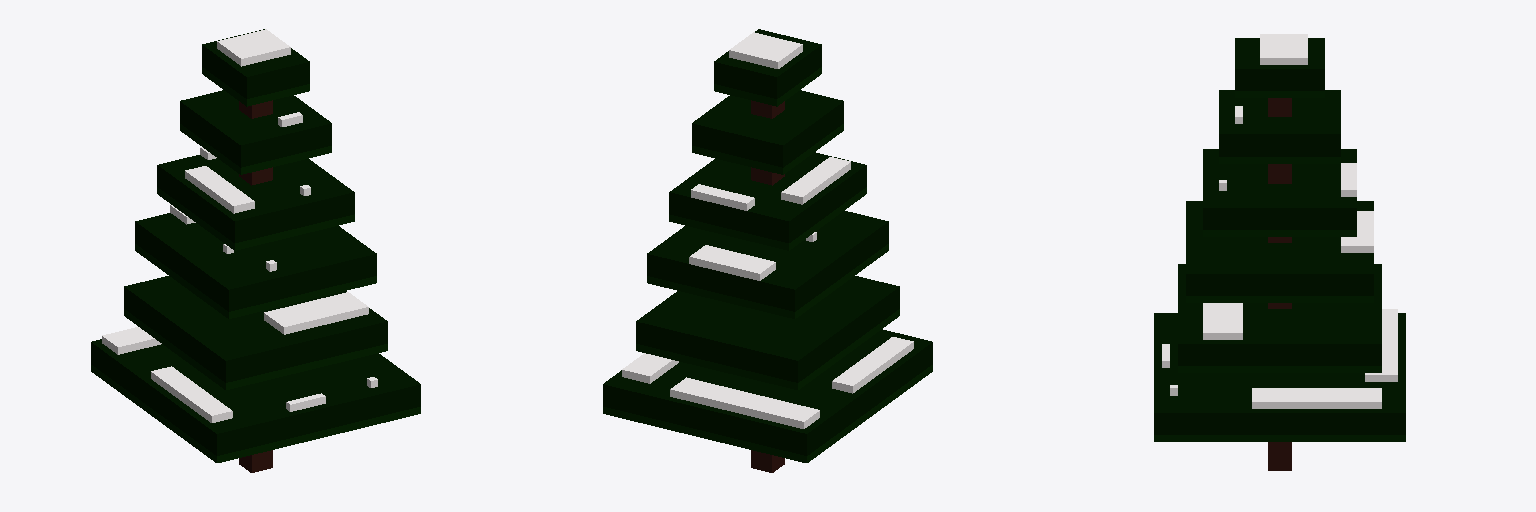
3 views of the same model, side by side, from view 1: azimuth 30°, elevation 25°; view 2: azimuth 150°, elevation 25°; view 3: azimuth 270°, elevation 25° (orthographic).
Visible parts, largest first — view 1: object 1; view 2: object 1; view 3: object 1.
Boxes of the visible parts, box(x1,y1,x2,y2) form: object 1: box(91, 29, 420, 472); object 1: box(603, 29, 932, 472); object 1: box(1154, 34, 1405, 470).
Size of the model in its own units: 2.9 by 5.7 by 3.1.
1 materials, 1 textured.